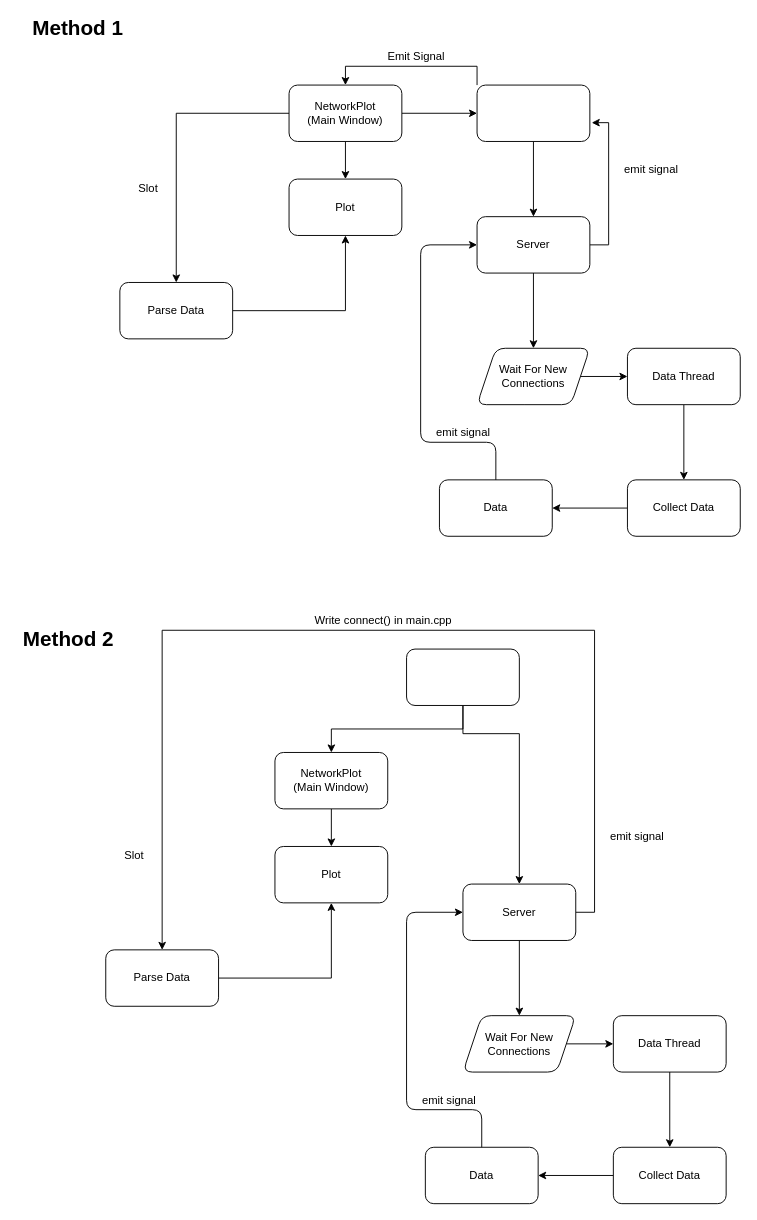
Some shapes in this 757 by 1220 pixel diagram are drawn without their labels. Here are the shapes that lost their labels. From the top down, the centre of each, then its label:
At point (533, 112): "Server Thread".
At point (462, 676): "main.cpp".
